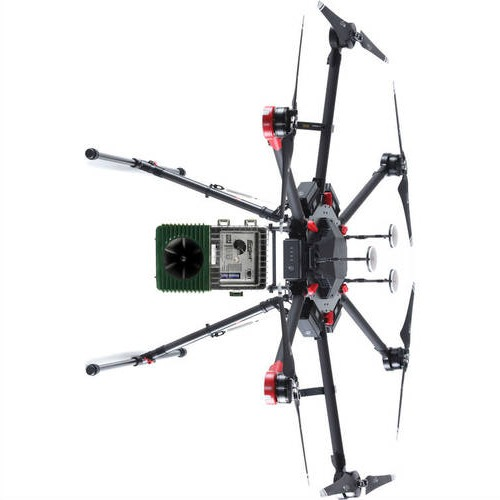drone: (87, 0, 415, 500)
